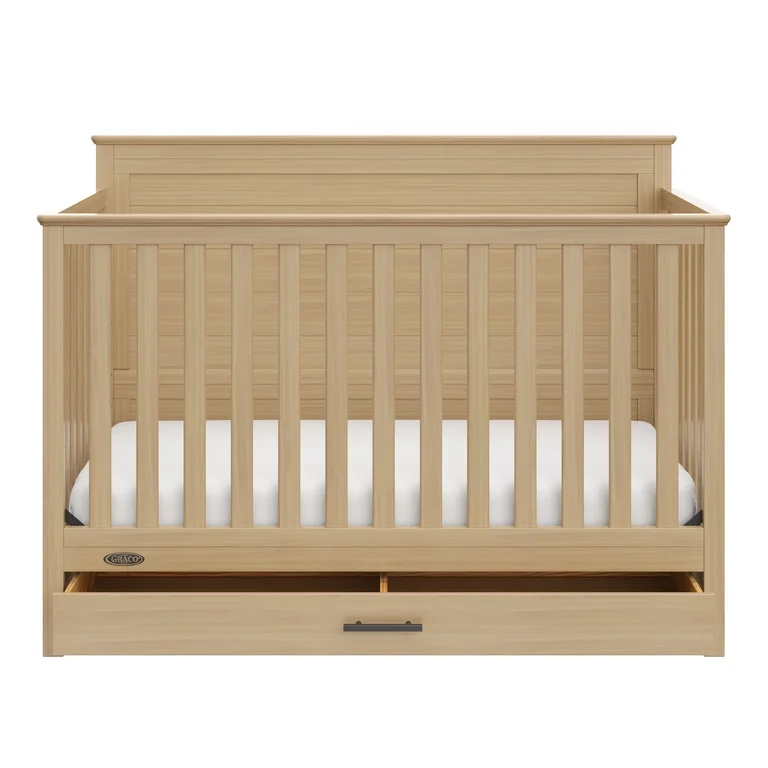crib: (41, 135, 726, 655)
